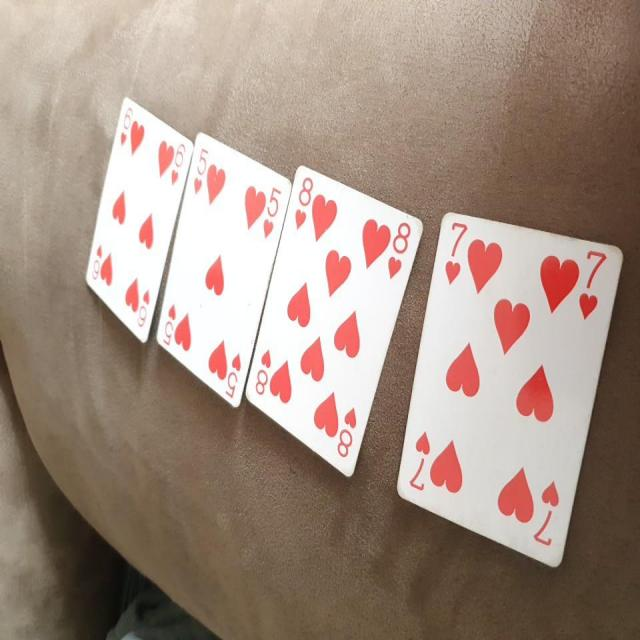5 Hearts: (151, 123, 290, 420)
6 Hearts: (78, 82, 191, 348)
7 Hearts: (391, 206, 623, 582)
8 Hearts: (242, 161, 429, 485)
